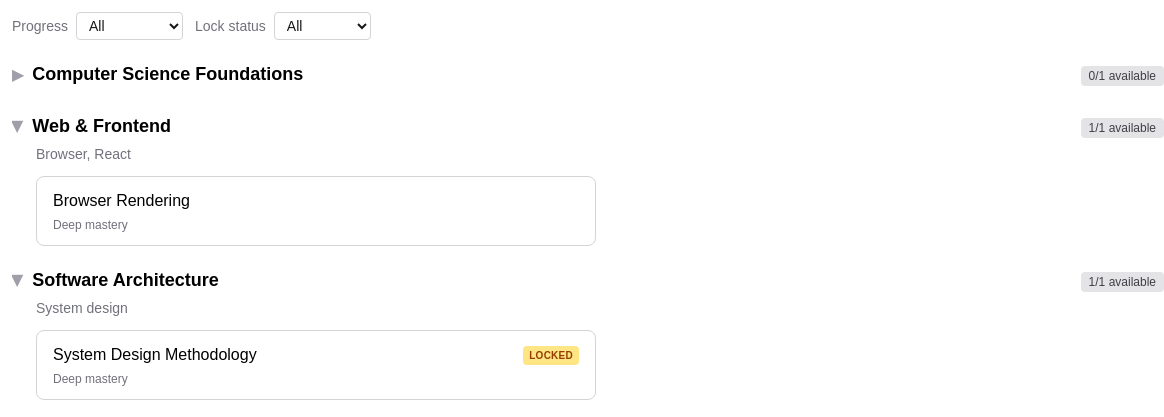
Test case: CurriculumTree › filters sections by lock status
Step 1. Select "Locked" in the dropdown labelled "Lock status" → x=322, y=26, box [274, 12, 371, 40]
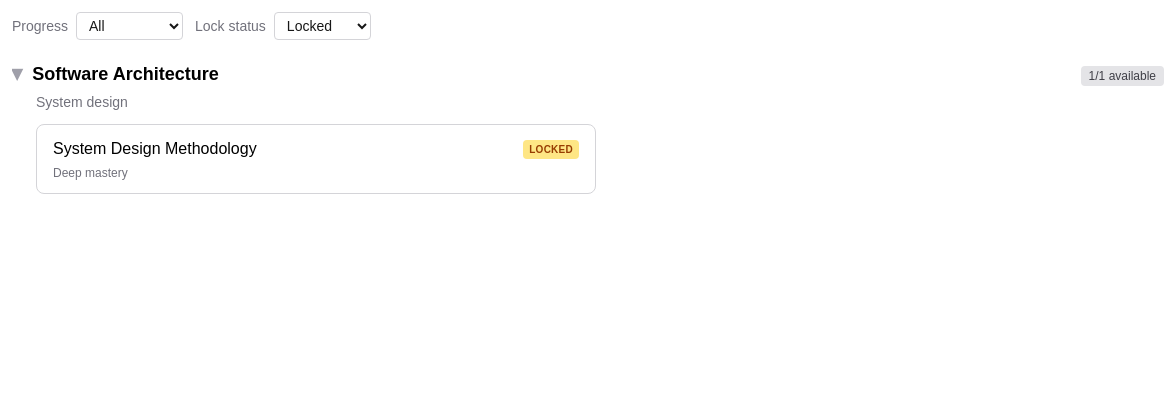
expect the text "System Design Methodology" is shown: met, box [53, 140, 257, 157]
expect the link "Browser Rendering" is gone: met
